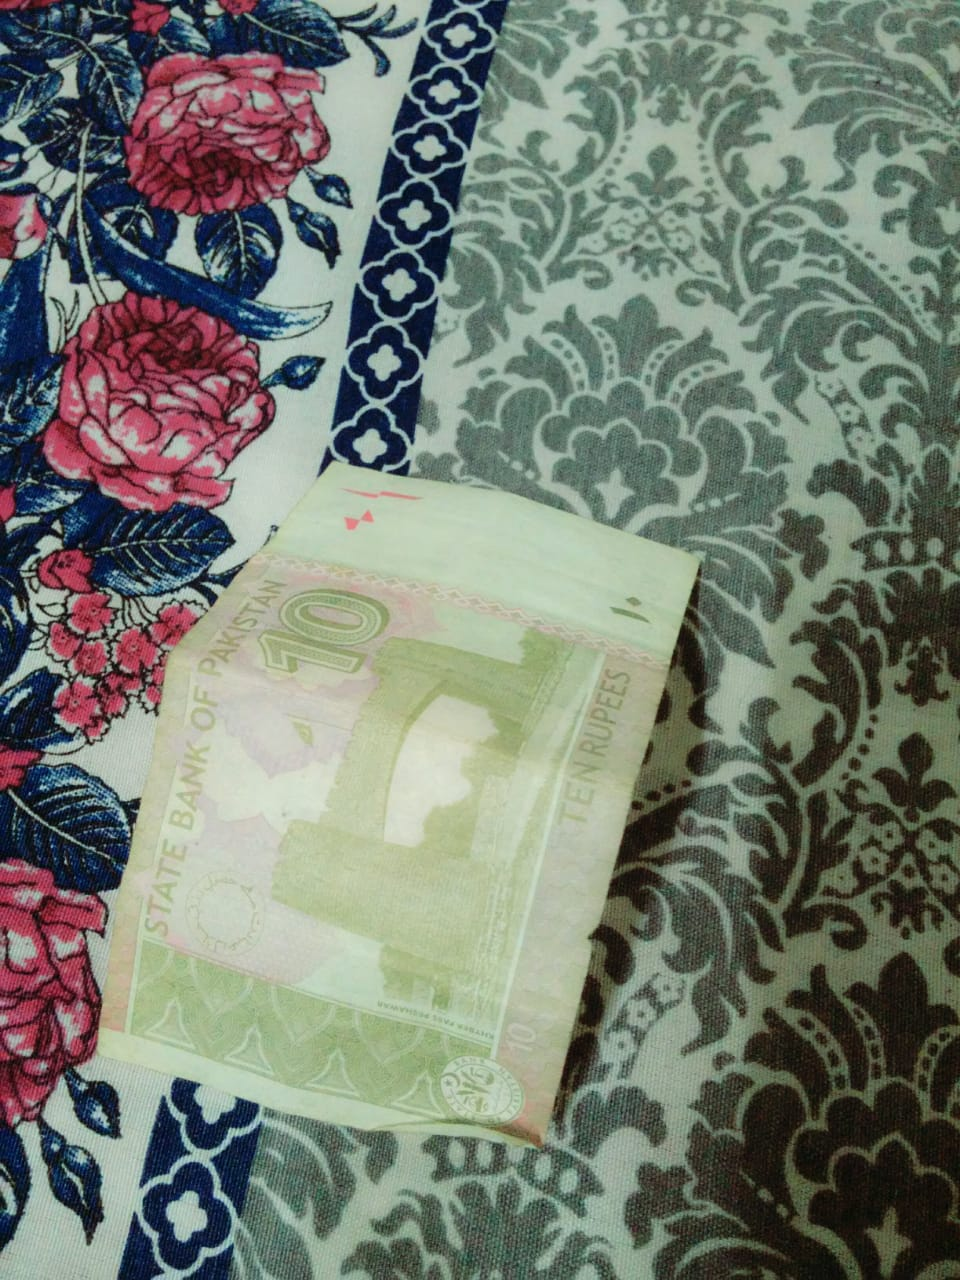10 rupee: (63, 452, 722, 1138)
